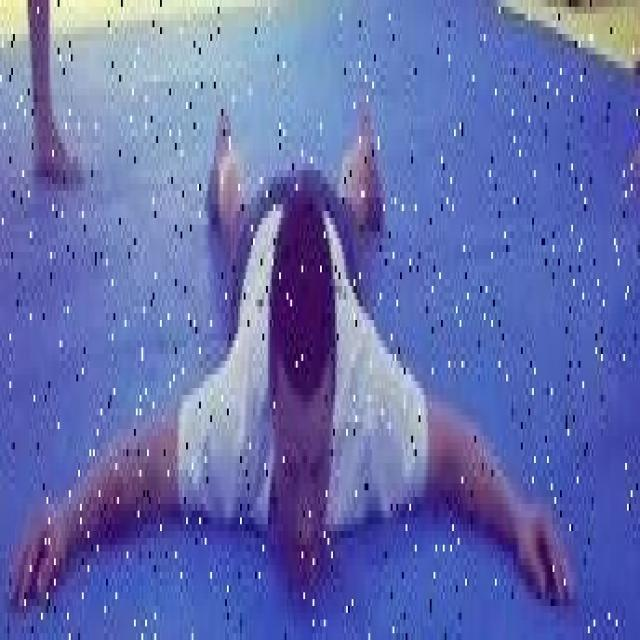fall: (16, 88, 556, 612)
